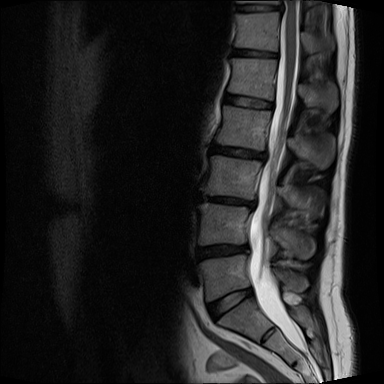Degenerative Disc Disease (DDD): (222, 40, 280, 64), (233, 2, 283, 17)
Lumbar Disc Bulge (LDB): (191, 232, 256, 268), (193, 188, 266, 213), (203, 144, 274, 163)
Normal IVD: (202, 284, 254, 324), (216, 88, 278, 115)
Spinal Stenosis (SS): (243, 137, 276, 171), (238, 185, 269, 218)
